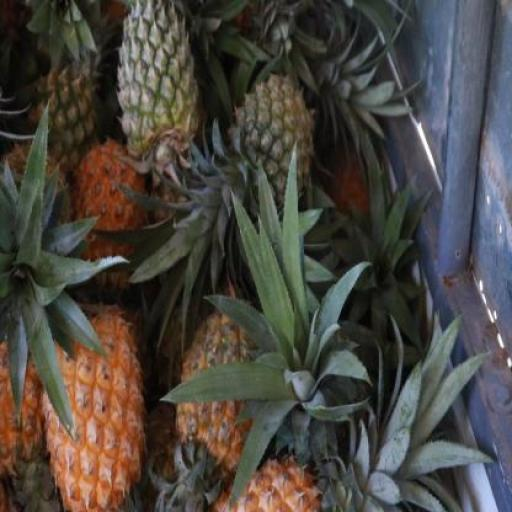Pineapple - v8 v1: (34, 303, 148, 511)
